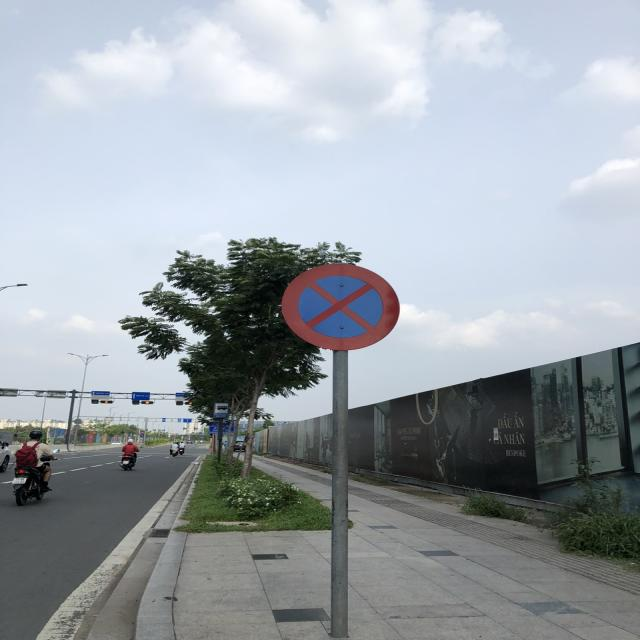Bien bao cam dung xe va do xe: (272, 252, 400, 355)
